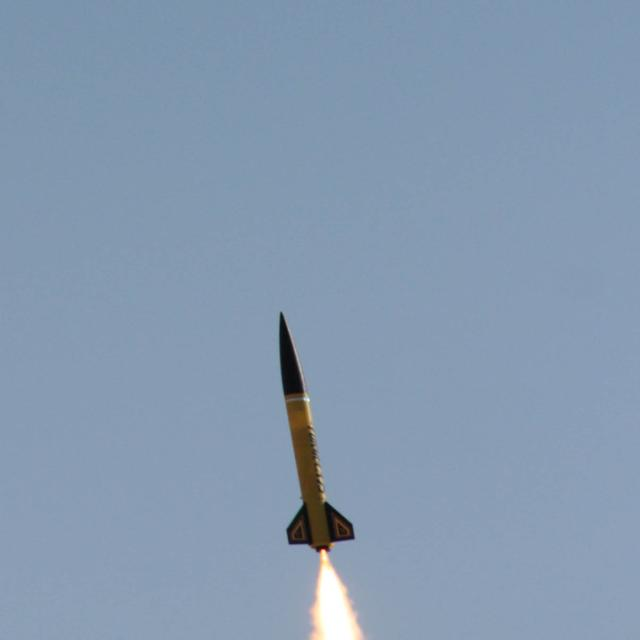Rocket: (275, 310, 356, 554)
